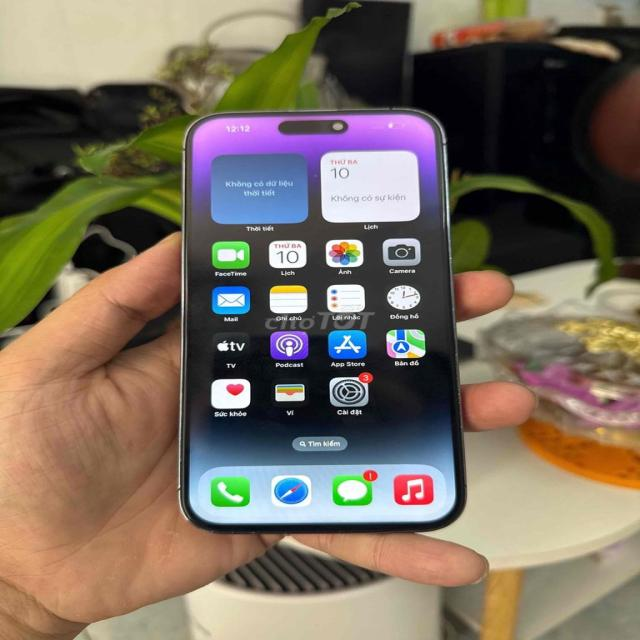gen_14: (175, 109, 482, 540)
